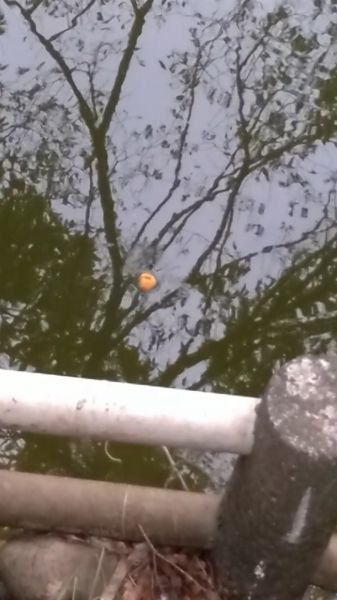eggs: (133, 265, 158, 292)
